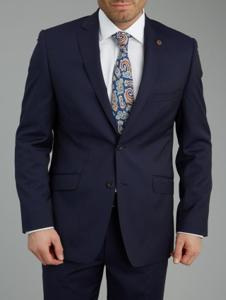F_M_suit jacket: (16, 14, 213, 252)
F_dress pants: (38, 214, 169, 299)
F_tie: (107, 30, 136, 126)
